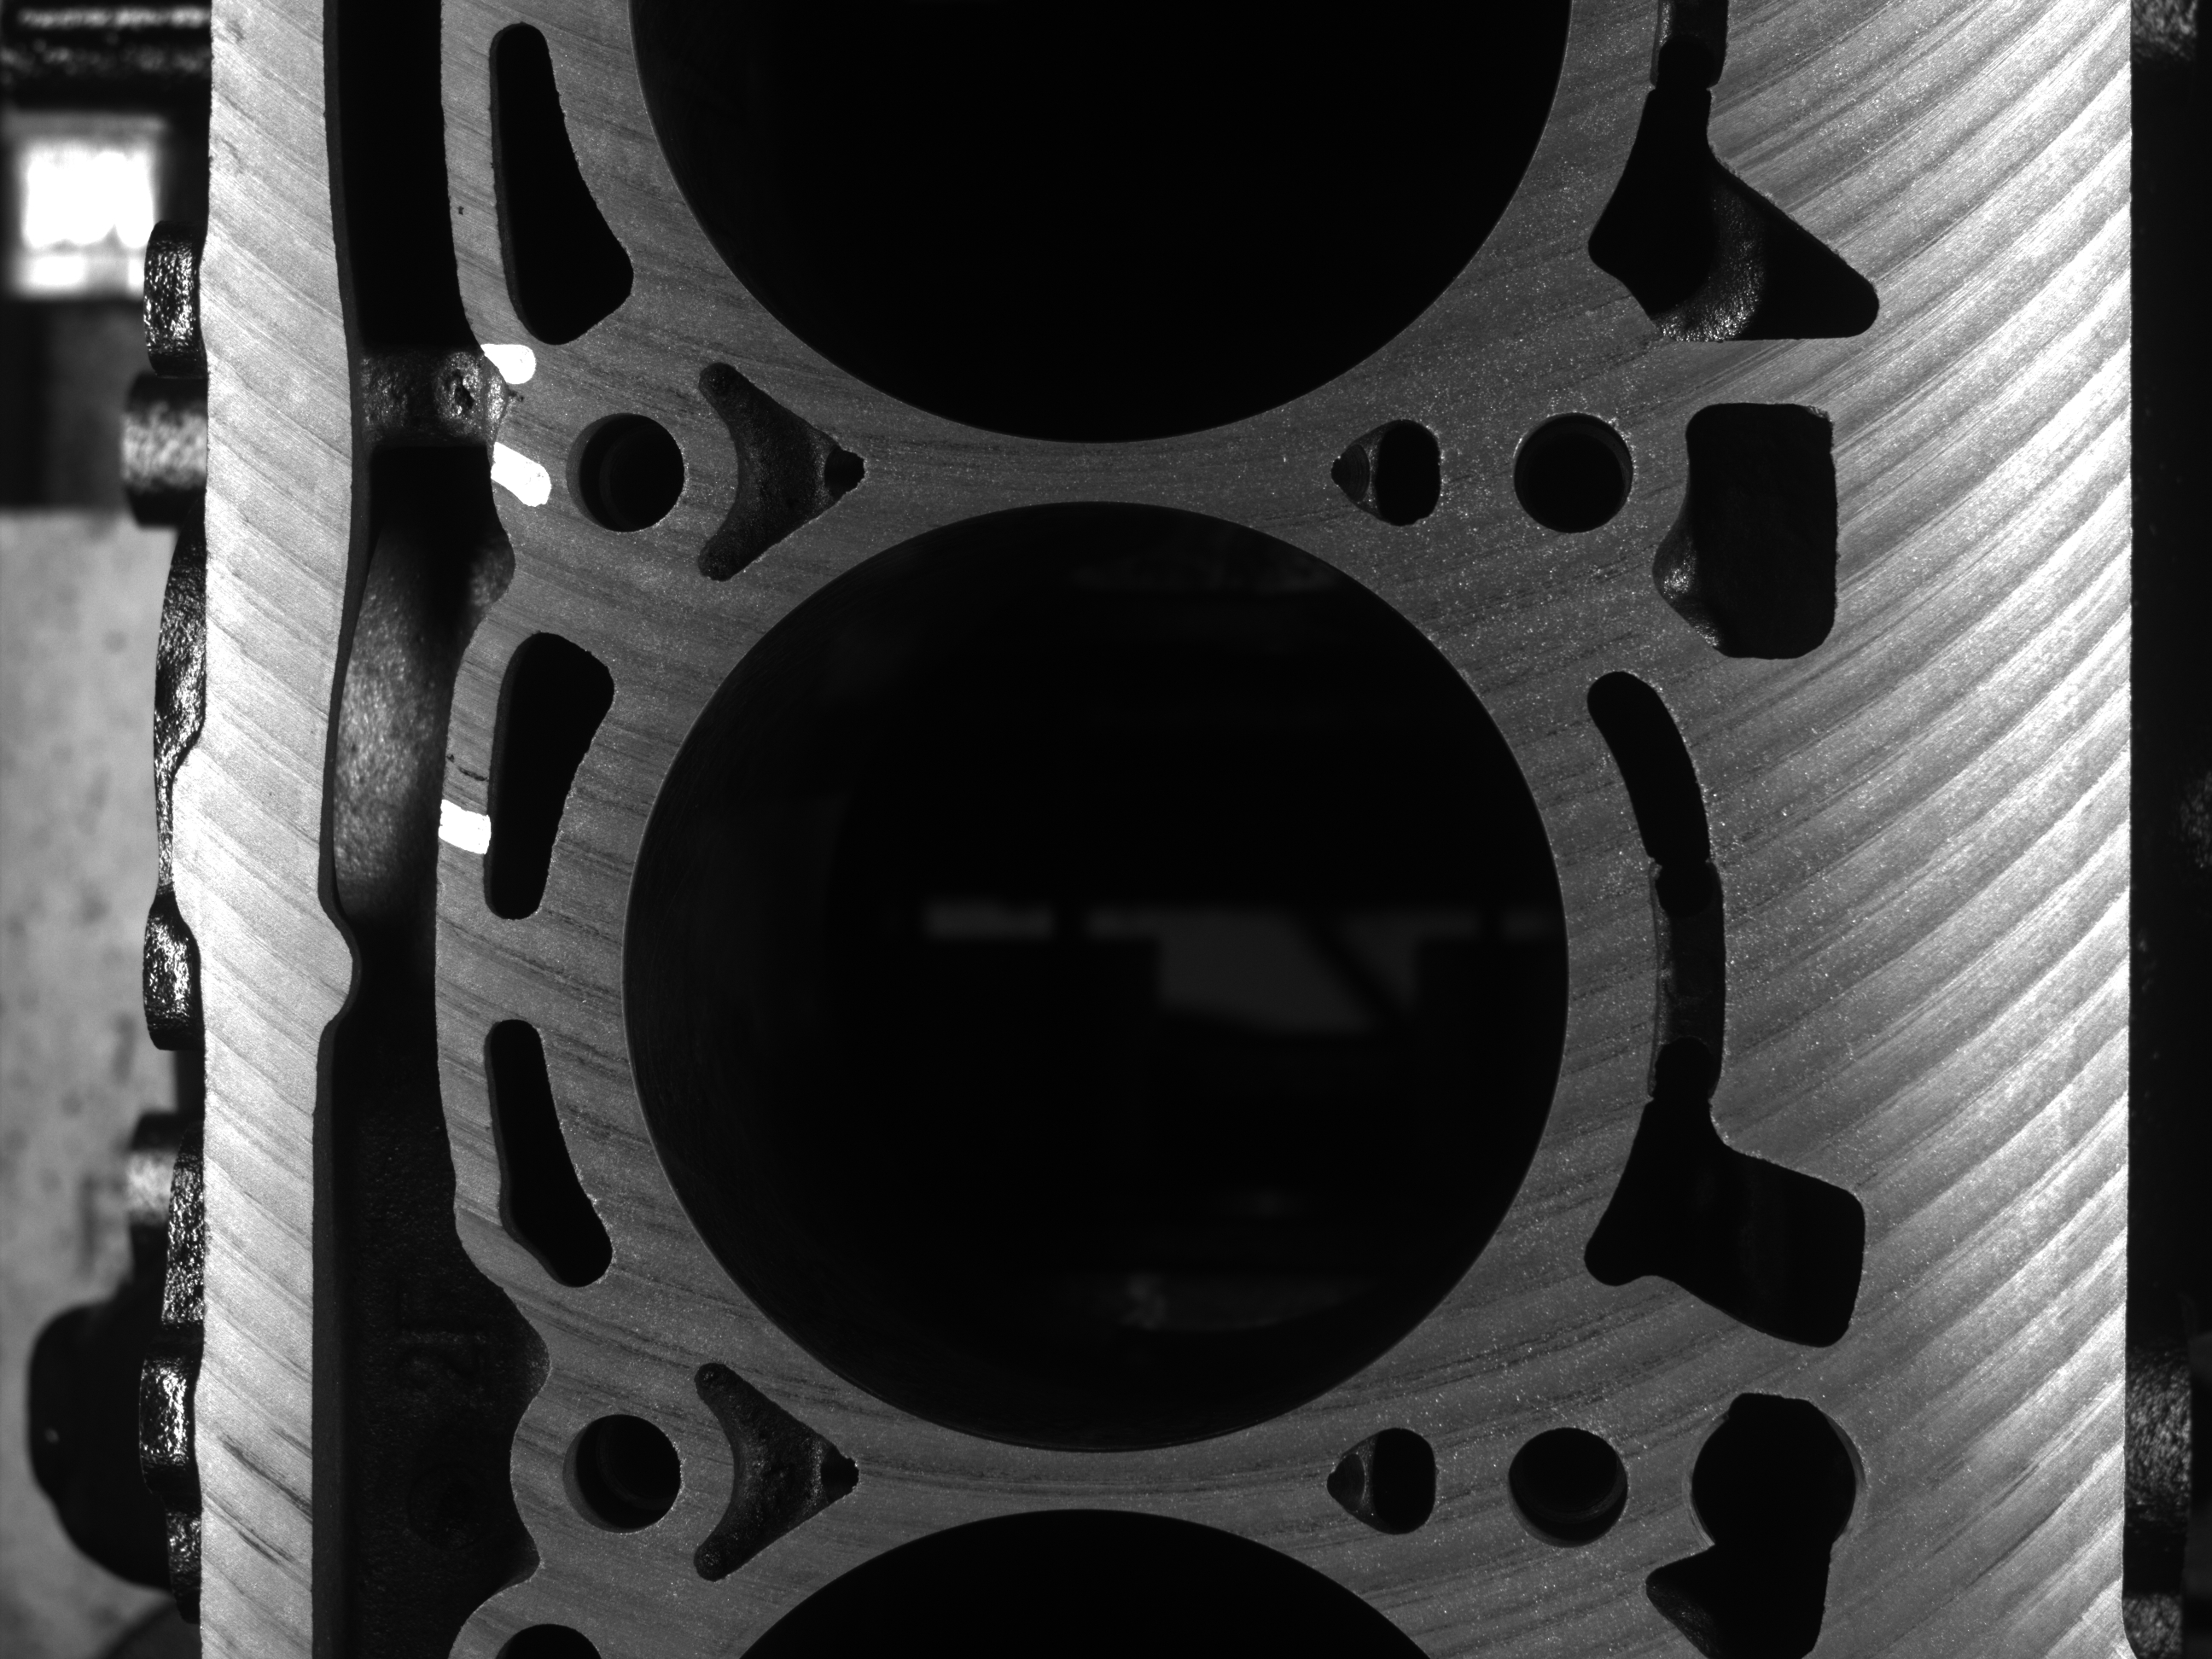crackle: (435, 744, 496, 789), (498, 371, 540, 415)
